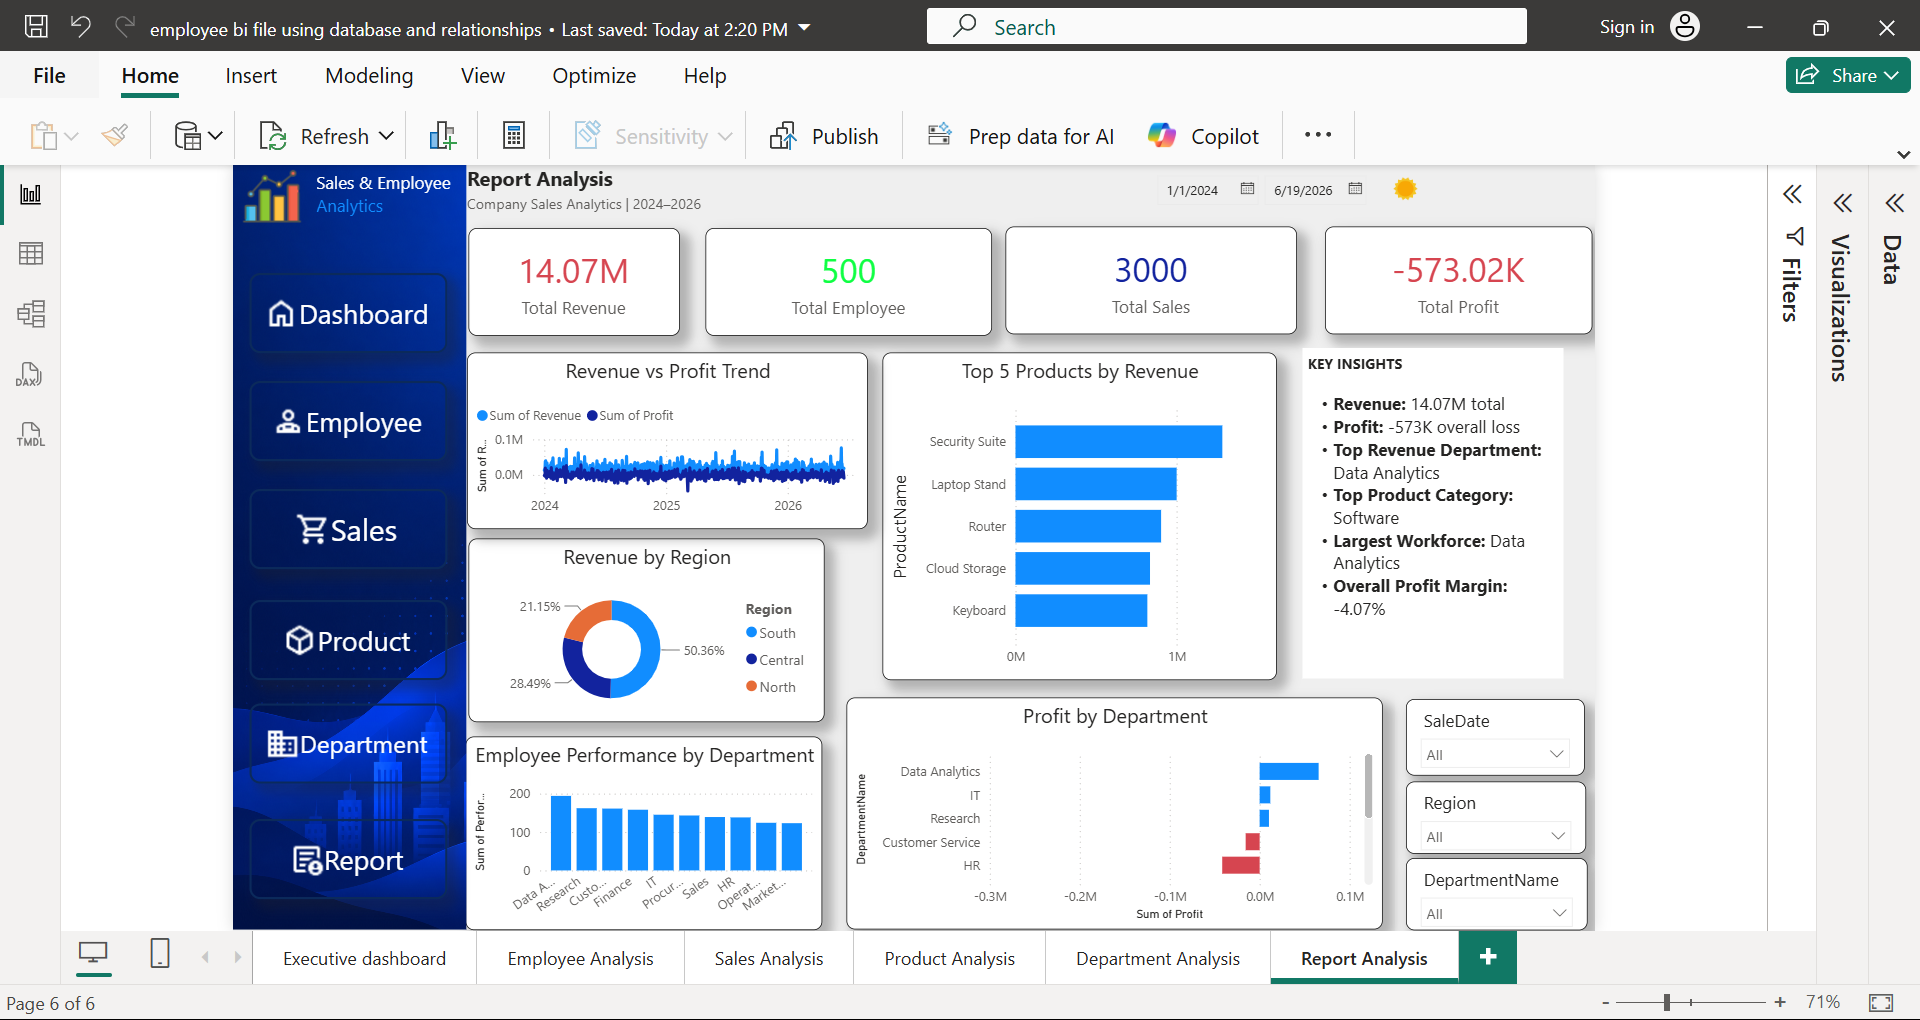

What the dashboard file says about the page in this screenshot:
{"tool":"powerbi","page":{"name":"Report Analysis","canvas":[1280,720],"ordinal":5},"visuals":[{"type":"card","fields":{"Values":["CountNonNull(company_powerbi employees.EmployeeID)"]},"box":[443.7,59.1,269.5,101.5],"z":1000},{"type":"card","fields":{"Values":["Sum(company_powerbi sales.Revenue)"]},"box":[221.1,59.1,198.4,101.5],"z":2000},{"type":"card","fields":{"Values":["CountNonNull(company_powerbi sales.SaleID)"]},"box":[726.8,57.5,274.1,101.5],"z":3000},{"type":"card","fields":{"Values":["Sum(company_powerbi sales.Profit)"]},"box":[1026.6,57.5,251.4,101.5],"z":4000},{"type":"clusteredBarChart","title":"Top 5 Products by Revenue","fields":{"Category":["company_powerbi products.ProductName"],"Y":["Sum(company_powerbi sales.Revenue)"]},"box":[610.2,175.6,370.4,307.9],"z":5000},{"type":"donutChart","title":"Revenue by Region","fields":{"Category":["company_powerbi employees.Region"],"Y":["Sum(company_powerbi sales.Revenue)"]},"box":[221.1,351.3,334.6,172.6],"z":7000},{"type":"clusteredColumnChart","title":"Employee Performance by Department","fields":{"Category":["company_powerbi departments.DepartmentName"],"Y":["Sum(company_powerbi employees.PerformanceScore)"]},"box":[218.8,537.7,335.6,181.9],"z":8000},{"type":"slicer","fields":{"Values":["company_powerbi sales.SaleDate"]},"box":[1102.6,501.9,167.8,71.9],"z":9000},{"type":"slicer","fields":{"Values":["company_powerbi customers.Region"]},"box":[1102.6,579.5,169.2,67.7],"z":10000},{"type":"slicer","fields":{"Values":["company_powerbi departments.DepartmentName"]},"box":[1102.6,651.4,170.6,67.7],"z":11000},{"type":"image","box":[0,0,219.5,719],"z":12000},{"type":"shape","title":"Report Analysis","box":[219.6,0,1059.9,57.5],"z":13000},{"type":"slicer","fields":{"Values":["company_powerbi sales.SaleDate"]},"box":[855.5,0,299.8,42.4],"z":14000},{"type":"image","box":[1081.6,11.1,41.4,22.3],"z":15000},{"type":"image","box":[0,0,73.2,58.9],"z":16000},{"type":"textbox","box":[73.2,0,146.3,58.9],"z":17000},{"type":"actionButton","box":[15.6,101.6,186,75],"z":18000},{"type":"actionButton","box":[15.6,203.2,186,75],"z":19000},{"type":"actionButton","box":[15.6,304.8,186,75],"z":20000},{"type":"actionButton","box":[15.6,409.5,186,75],"z":21000},{"type":"actionButton","box":[15.6,506.4,186,75],"z":22000},{"type":"actionButton","box":[15.6,614.3,186,75],"z":23000},{"type":"textbox","box":[1005.4,172.6,245.3,310.4],"z":24000},{"type":"lineChart","title":"Revenue vs Profit Trend","fields":{"Category":["company_powerbi sales.SaleDate"],"Y":["Sum(company_powerbi sales.Revenue)","Sum(company_powerbi sales.Profit)"]},"box":[220.4,176.6,376.7,165.7],"z":25000},{"type":"clusteredBarChart","title":"Profit by Department","fields":{"Category":["company_powerbi departments.DepartmentName"],"Y":["Sum(company_powerbi sales.Profit)"]},"box":[576.9,501.2,504.2,218],"z":26000}]}

Visuals, with their boxes on the page's 1280x720 design canvas (x1, y1, x2, y2). These are canvas units, not pixel positions in the 1920x1020 screenshot, which may show the page scaled, cropped or inside an application window:
card - CountNonNull(company_powerbi employees.EmployeeID): rect(444, 59, 713, 161)
card - Sum(company_powerbi sales.Revenue): rect(221, 59, 420, 161)
card - CountNonNull(company_powerbi sales.SaleID): rect(727, 58, 1001, 159)
card - Sum(company_powerbi sales.Profit): rect(1027, 58, 1278, 159)
"Top 5 Products by Revenue" clusteredBarChart: rect(610, 176, 981, 484)
"Revenue by Region" donutChart: rect(221, 351, 556, 524)
"Employee Performance by Department" clusteredColumnChart: rect(219, 538, 554, 720)
slicer - company_powerbi sales.SaleDate: rect(1103, 502, 1270, 574)
slicer - company_powerbi customers.Region: rect(1103, 580, 1272, 647)
slicer - company_powerbi departments.DepartmentName: rect(1103, 651, 1273, 719)
image: rect(0, 0, 220, 719)
"Report Analysis" shape: rect(220, 0, 1280, 58)
slicer - company_powerbi sales.SaleDate: rect(856, 0, 1155, 42)
image: rect(1082, 11, 1123, 33)
image: rect(0, 0, 73, 59)
textbox: rect(73, 0, 220, 59)
actionButton: rect(16, 102, 202, 177)
actionButton: rect(16, 203, 202, 278)
actionButton: rect(16, 305, 202, 380)
actionButton: rect(16, 410, 202, 484)
actionButton: rect(16, 506, 202, 581)
actionButton: rect(16, 614, 202, 689)
textbox: rect(1005, 173, 1251, 483)
"Revenue vs Profit Trend" lineChart: rect(220, 177, 597, 342)
"Profit by Department" clusteredBarChart: rect(577, 501, 1081, 719)
